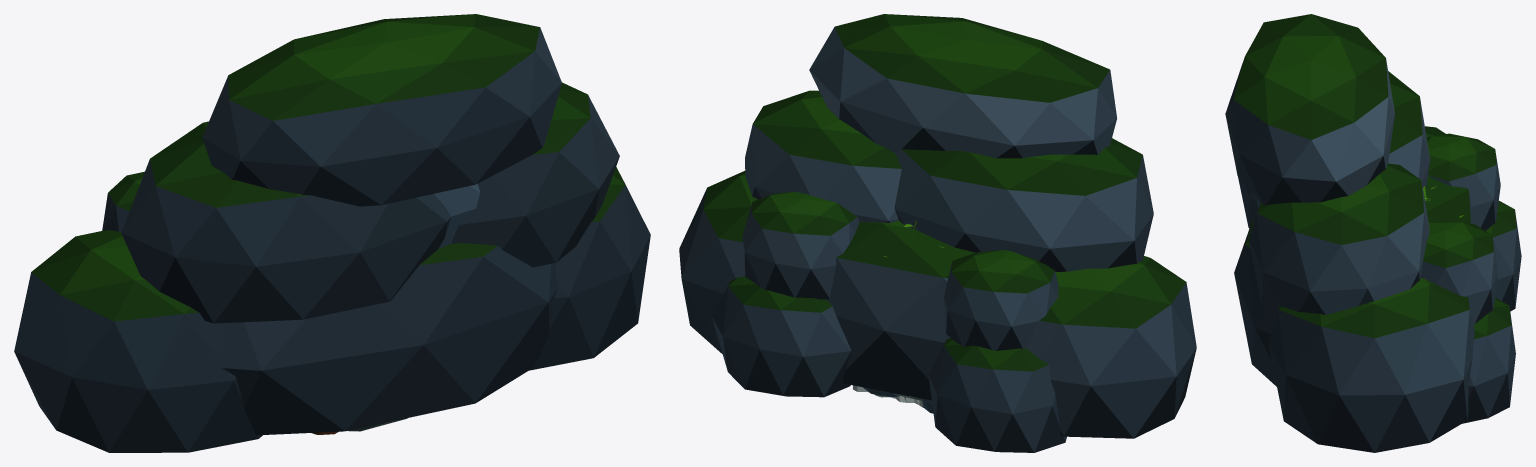
Rendered from CoastalNatureKit.fbx.
3 views of the same model, side by side, from view 1: azimuth 30°, elevation 25°; view 2: azimuth 150°, elevation 25°; view 3: azimuth 270°, elevation 25° (orthographic). The views are drawn at different scales.
Parts seen in each view (by area): view 1: Mountain_CliffWall, Waterfall_Cascade; view 2: Mountain_CliffWall, Waterfall_Cascade; view 3: Mountain_CliffWall.
Boxes of the visible parts, box(x1,y1,x2,y2) form: Mountain_CliffWall: box(14, 14, 650, 452); Waterfall_Cascade: box(434, 184, 480, 248); Mountain_CliffWall: box(679, 14, 1196, 452); Waterfall_Cascade: box(853, 385, 933, 413); Mountain_CliffWall: box(1225, 14, 1521, 452).
Size of the model in its own units: 7.48 by 4.7 by 3.98.
